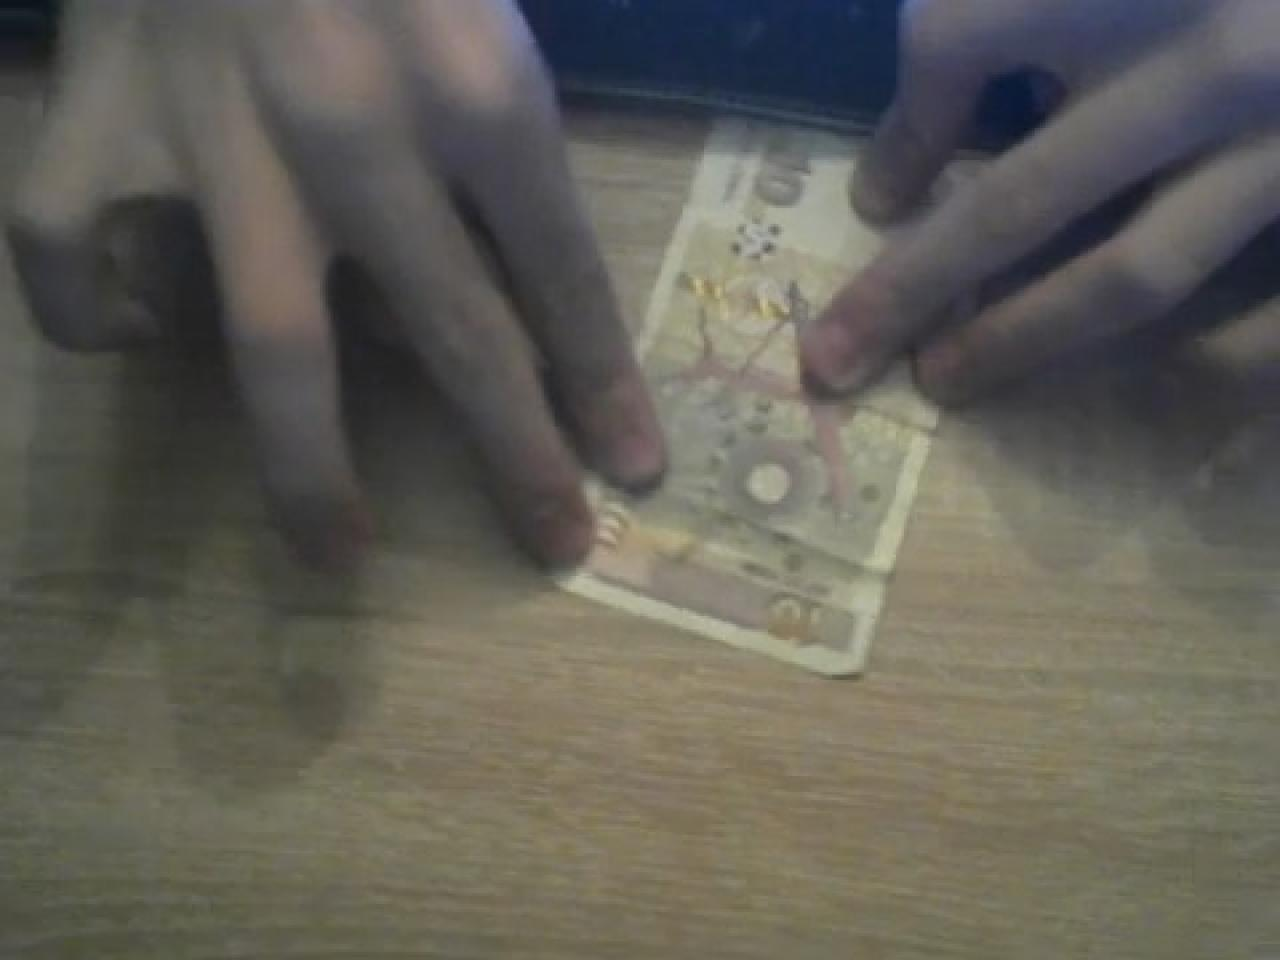10leva: (563, 115, 936, 683)
